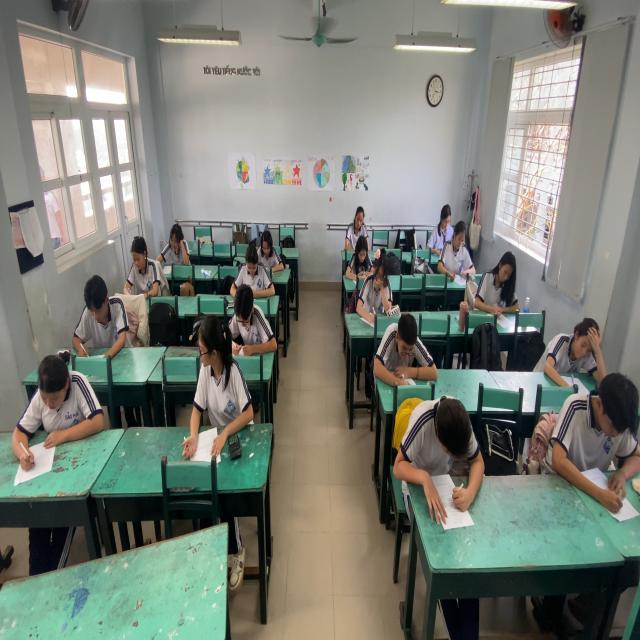cheating: (188, 321, 250, 438)
not_cheating: (571, 352, 640, 514), (409, 382, 475, 494), (28, 346, 99, 444), (548, 304, 601, 384), (84, 269, 125, 369), (382, 299, 422, 382), (230, 282, 276, 354), (482, 236, 518, 323), (358, 254, 395, 319), (443, 212, 472, 288), (124, 233, 155, 300), (341, 193, 373, 243), (242, 242, 272, 291), (431, 193, 456, 251), (260, 228, 289, 271), (162, 213, 184, 267), (348, 236, 372, 285)
